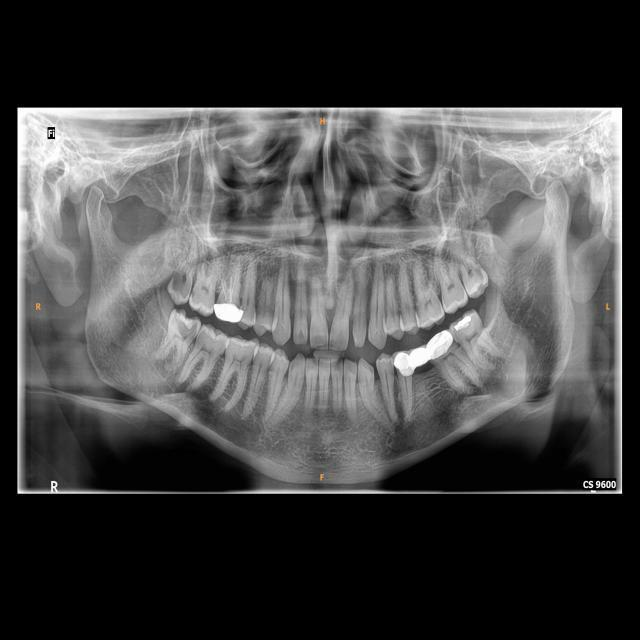dentin-curugu: (172, 268, 190, 297), (473, 266, 485, 280)
dolgu: (448, 312, 474, 330)
kanal-tedavisi: (221, 270, 239, 300)
kaplama: (210, 299, 244, 325), (422, 330, 454, 356), (392, 350, 414, 379)
kopru: (406, 342, 440, 371)
